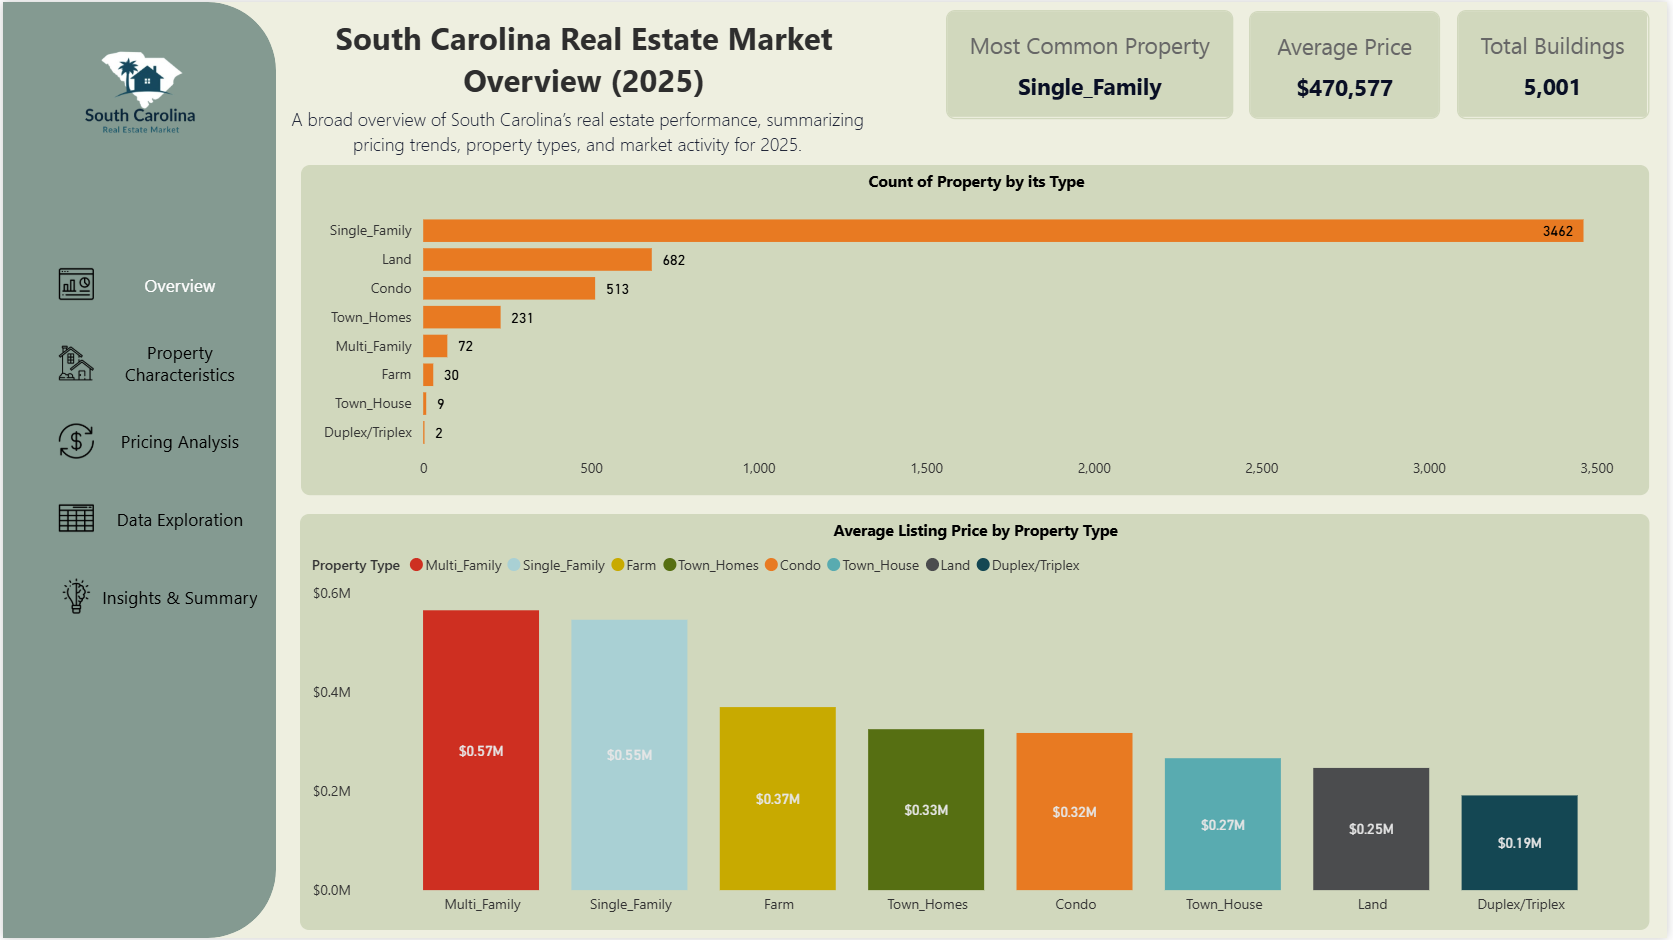

The page's visual inventory and layout, read from the dashboard file:
{"tool":"powerbi","page":{"name":"   Overview         ","canvas":[1280,720],"ordinal":0},"visuals":[{"type":"shape","box":[0,0,210,720],"z":0},{"type":"pageNavigator","box":[74.3,192.1,123.6,291.4],"z":1000},{"type":"image","box":[37,438.6,39.3,37.1],"z":2000},{"type":"image","box":[37,259.3,39.3,37.1],"z":3000},{"type":"image","box":[37,378.6,39.3,37.1],"z":4000},{"type":"image","box":[37,198.6,39.3,37.1],"z":5000},{"type":"image","box":[37,319.3,39.3,37.1],"z":6000},{"type":"cardVisual","fields":{"Data":["realestate_data_southcarolina_2025.Average_Price"]},"box":[958.7,6.7,147,83.3],"z":7000},{"type":"cardVisual","fields":{"Data":["realestate_data_southcarolina_2025.Building Count"]},"box":[1118.8,6.2,147.5,83.8],"z":8000},{"type":"columnChart","title":"Average Listing Price by Property Type","fields":{"Category":["realestate_data_southcarolina_2025.Property_Type"],"Series":["realestate_data_southcarolina_2025.Property_Type"],"Y":["Avg(realestate_data_southcarolina_2025.Listing_Price)"]},"box":[228.8,394,1037.5,320],"z":9000},{"type":"clusteredBarChart","title":"Count of Property by its Type","fields":{"Category":["realestate_data_southcarolina_2025.Property_Type"],"Y":["CountNonNull(realestate_data_southcarolina_2025.Property_Type)"]},"box":[229.1,125.5,1037.3,253.6],"z":10000},{"type":"cardVisual","fields":{"Data":["realestate_data_southcarolina_2025.Most Common Property Type"]},"box":[725,6.2,221.2,83.8],"z":11000},{"type":"image","box":[0,0,210,141.4],"z":12000},{"type":"textbox","box":[220,6,454,84],"z":13000},{"type":"textbox","box":[210,75,464,50],"z":14000}]}

Visuals, with their boxes in screenshot pixels (x1, y1, x2, y2), scaled from the page's 1280x720 canvas onto the 1673x940 screenshot:
shape: bbox=(0, 0, 274, 939)
pageNavigator: bbox=(97, 251, 259, 631)
image: bbox=(48, 573, 100, 621)
image: bbox=(48, 339, 100, 387)
image: bbox=(48, 494, 100, 543)
image: bbox=(48, 259, 100, 308)
image: bbox=(48, 417, 100, 465)
cardVisual - realestate_data_southcarolina_2025.Average_Price: bbox=(1253, 9, 1445, 118)
cardVisual - realestate_data_southcarolina_2025.Building Count: bbox=(1462, 8, 1655, 118)
"Average Listing Price by Property Type" columnChart: bbox=(299, 514, 1655, 932)
"Count of Property by its Type" clusteredBarChart: bbox=(299, 164, 1655, 495)
cardVisual - realestate_data_southcarolina_2025.Most Common Property Type: bbox=(948, 8, 1237, 118)
image: bbox=(0, 0, 274, 185)
textbox: bbox=(288, 8, 881, 118)
textbox: bbox=(274, 98, 881, 163)
